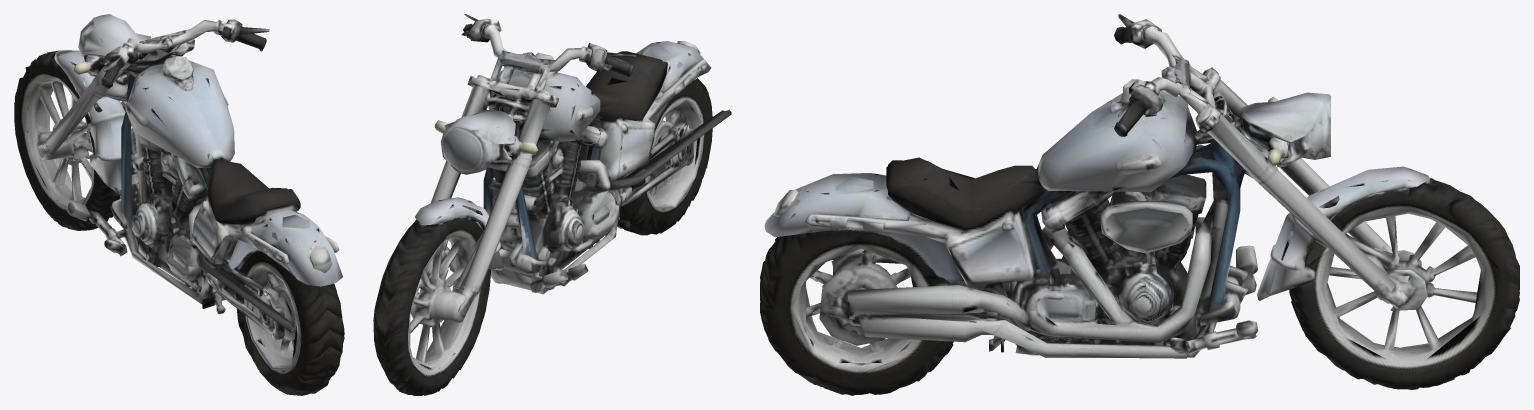
File: cruiser-bike.glb
3 views of the same model, side by side, from view 1: azimuth 30°, elevation 25°; view 2: azimuth 150°, elevation 25°; view 3: azimuth 270°, elevation 25° (orthographic). The views are drawn at different scales.
Visible parts, largest first — view 1: tripo_node_592f2bf6-7d02-4186-a985-ac2b4efae6f8; view 2: tripo_node_592f2bf6-7d02-4186-a985-ac2b4efae6f8; view 3: tripo_node_592f2bf6-7d02-4186-a985-ac2b4efae6f8.
Boxes of the visible parts, left/top/right/bottom form: tripo_node_592f2bf6-7d02-4186-a985-ac2b4efae6f8: left=14, top=14, right=344, bottom=395; tripo_node_592f2bf6-7d02-4186-a985-ac2b4efae6f8: left=373, top=14, right=731, bottom=395; tripo_node_592f2bf6-7d02-4186-a985-ac2b4efae6f8: left=760, top=14, right=1519, bottom=395.
Bounding box in the file's own units: 0.3082 × 0.4803 × 0.978.
Materials: 1 (1 with a texture image).
